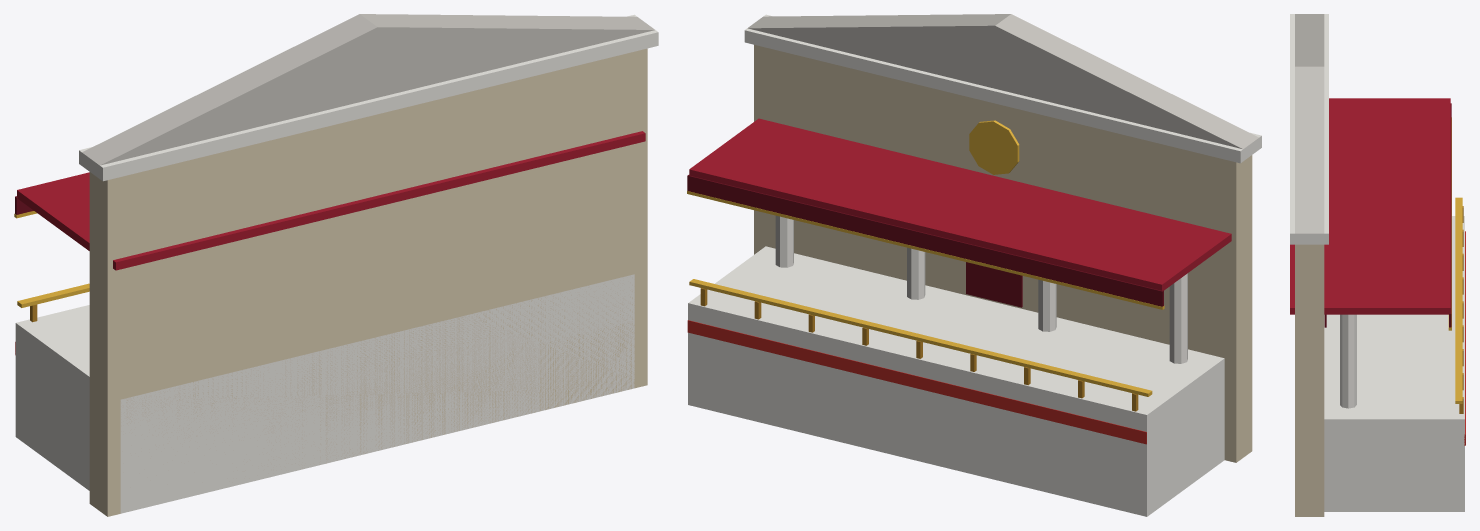
File: SM_PatronBox.fbx
3 views of the same model, side by side, from view 1: azimuth 30°, elevation 25°; view 2: azimuth 150°, elevation 25°; view 3: azimuth 270°, elevation 25° (orthographic). The views are drawn at different scales.
Visible parts, largest first — view 1: SM_PatronBox; view 2: SM_PatronBox; view 3: SM_PatronBox.
Boxes of the visible parts, box(x1,y1,x2,y2) form: SM_PatronBox: box(14, 14, 658, 516); SM_PatronBox: box(687, 14, 1261, 516); SM_PatronBox: box(1290, 14, 1465, 516).
Size of the model in its own units: 21.4 by 7.23 by 15.6.
